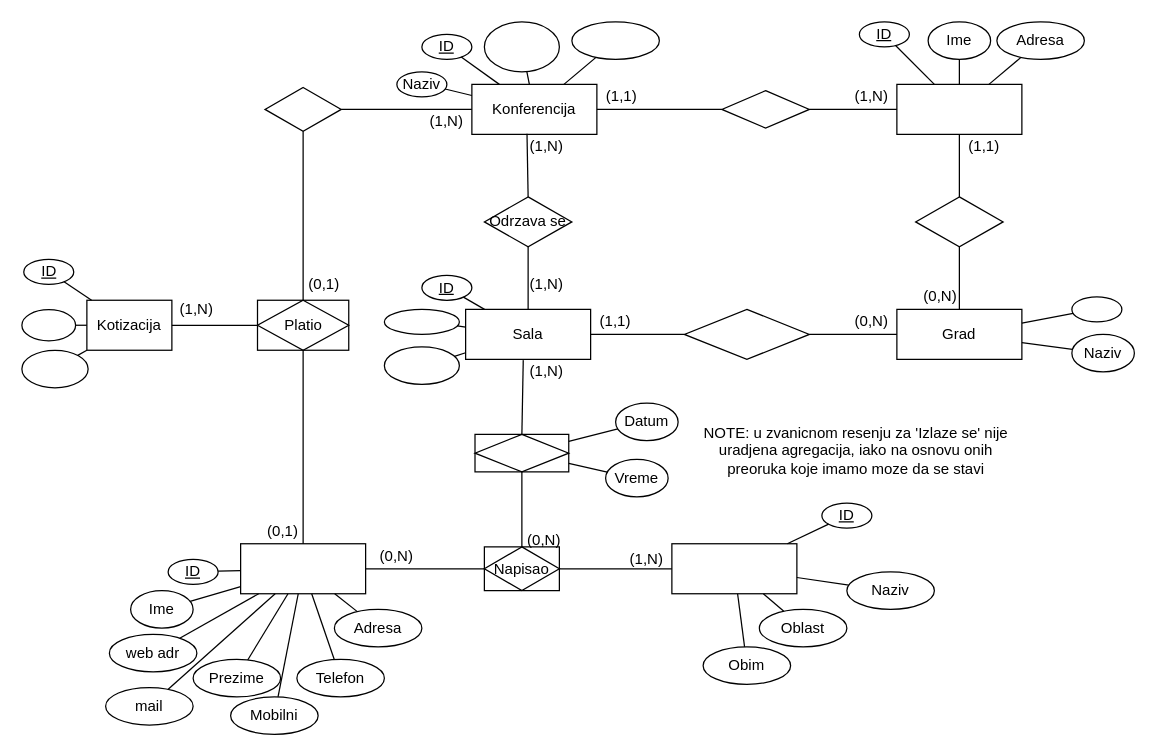
This 1156x756 diagram has some shape labels left out. The centre of each missing label's shape, as x and y in pixels:
Datum kraj.: (615,40)
Datum poc.: (521,46)
Izlaze se: (521,452)
Iznos: (54,368)
Kapacitet: (421,321)
Nalazi se: (746,333)
Organizator: (959,108)
organizuje: (765,108)
Ozvucenje: (421,365)
Potice iz: (958,221)
PTT: (1096,309)
Rad: (734,568)
Tip: (48,324)
Ucesnik: (302,568)
Ucestvuje: (302,108)
